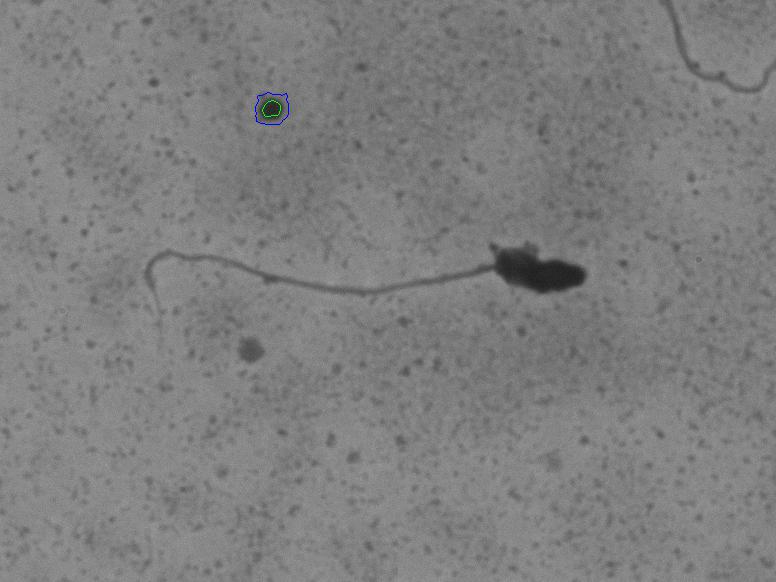Abnormal: (111, 160, 643, 378)
